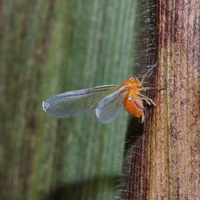insect: (42, 64, 164, 122)
